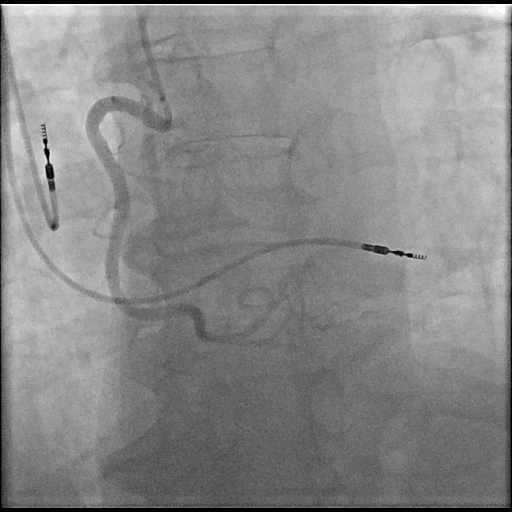RCA: (89, 98, 238, 341)
catherter: (137, 3, 174, 125)
